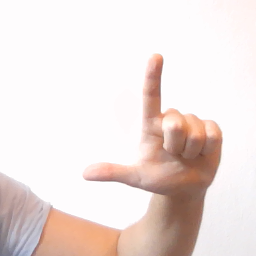L: (80, 51, 225, 203)
